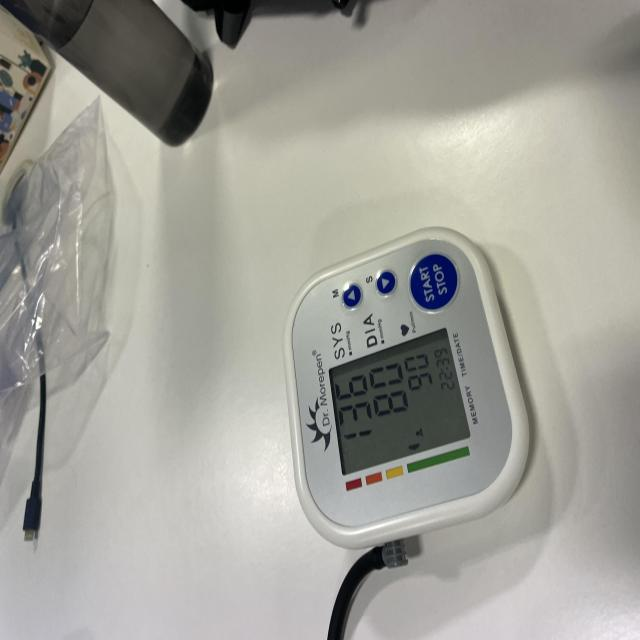bp: (283, 229, 529, 552)
